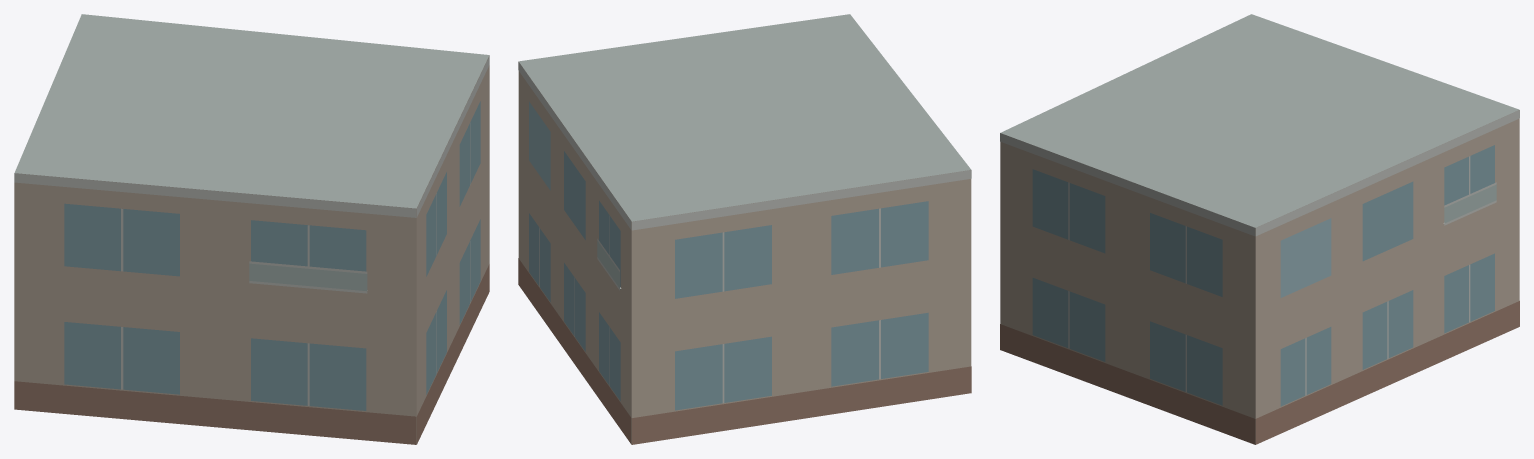
Rendered from survey-upis-32915679.glb.
3 renders of one model, left to right at view 1: azimuth 30°, elevation 25°; view 2: azimuth 150°, elevation 25°; view 3: azimuth 270°, elevation 25°, orthographic. The views are drawn at different scales.
Parts seen in each view (by area): view 1: survey-upis-32915679.tmp; view 2: survey-upis-32915679.tmp; view 3: survey-upis-32915679.tmp.
Boxes of the visible parts, x1=… form: survey-upis-32915679.tmp: x1=14, y1=14, x2=489, y2=444; survey-upis-32915679.tmp: x1=518, y1=14, x2=971, y2=444; survey-upis-32915679.tmp: x1=1000, y1=14, x2=1519, y2=444.
Size of the model in its own units: 12.9 by 6.1 by 13.25.
